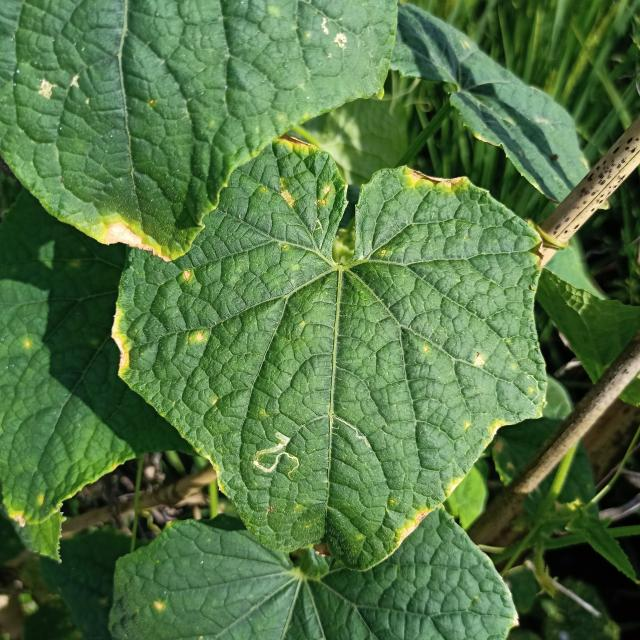disease_cucumber: (273, 133, 339, 218), (462, 408, 518, 446), (186, 327, 209, 349), (181, 267, 199, 288), (472, 349, 490, 370)
